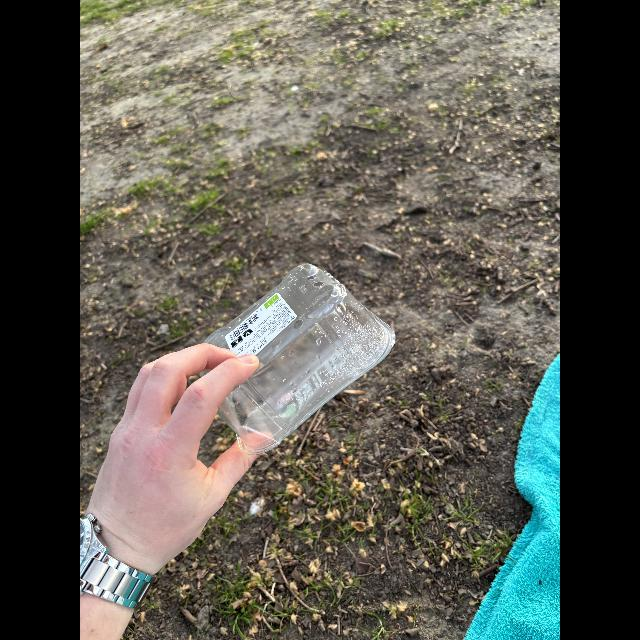Plastic: (186, 260, 400, 468)
